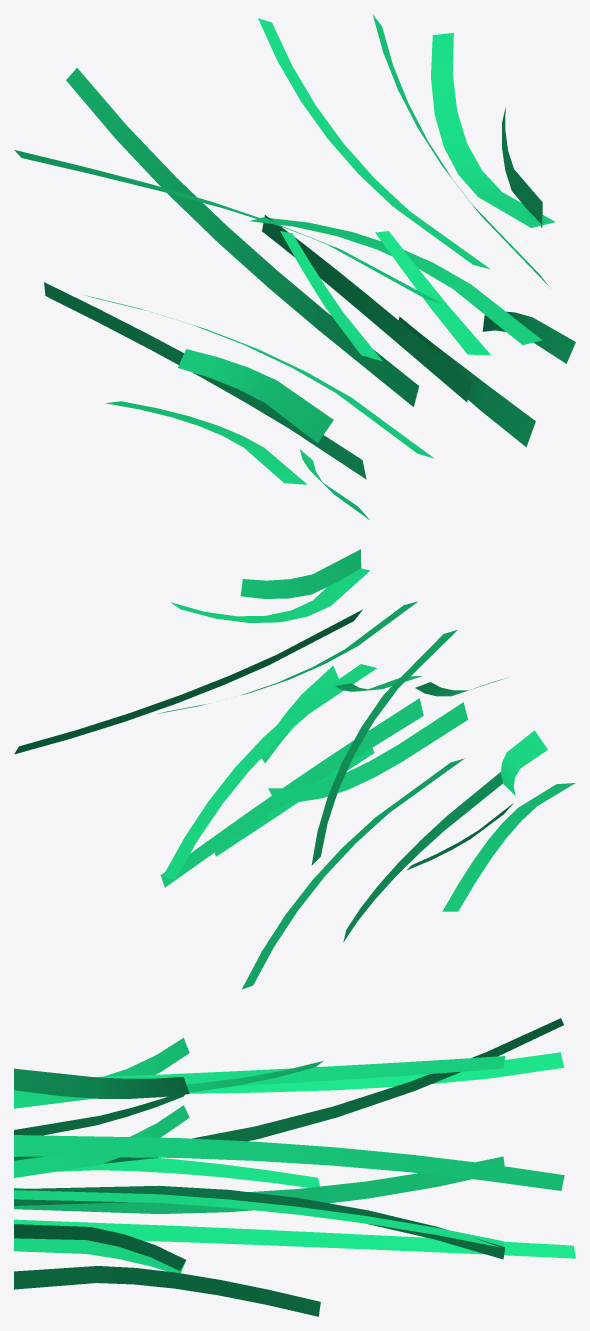
File: TallGrass.fbx
The picture shows the model from 3 angles, top to bottom: view 1: azimuth 30°, elevation 25°; view 2: azimuth 150°, elevation 25°; view 3: azimuth 270°, elevation 25°; orthographic projection. The views are drawn at different scales.
Parts seen in each view (by area): view 1: DontStepIntoTheTallGrass.001; view 2: DontStepIntoTheTallGrass.001; view 3: DontStepIntoTheTallGrass.001.
Part boxes in pixels (box(x1,y1,x2,y2)): DontStepIntoTheTallGrass.001: box(14, 14, 575, 519); DontStepIntoTheTallGrass.001: box(14, 549, 575, 989); DontStepIntoTheTallGrass.001: box(14, 1018, 575, 1316).
Size of the model in its own units: 164 by 125 by 207.
